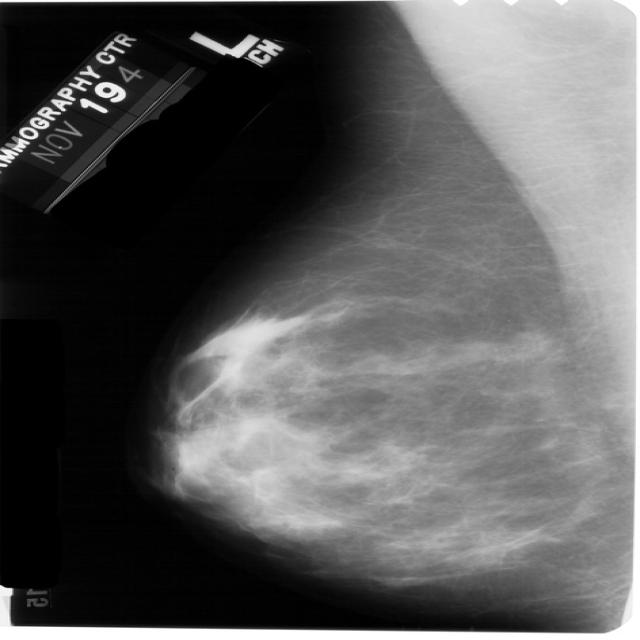tumour: (214, 356, 246, 396)
